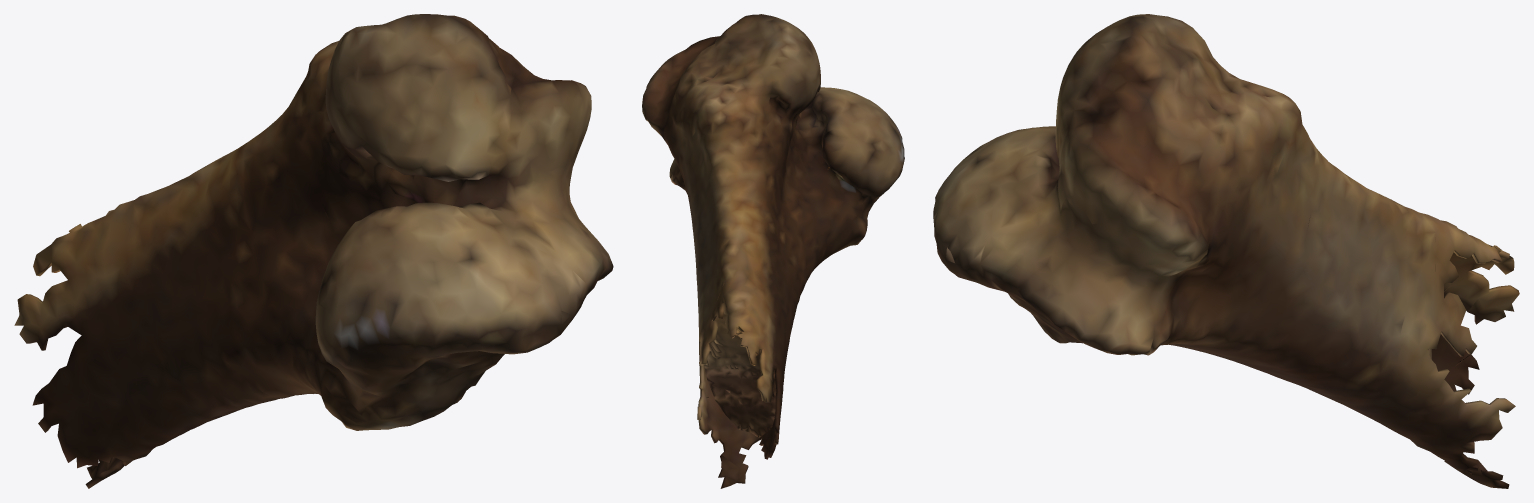
Rendered from 6half mastadon bone.fbx.
3 renders of one model, left to right at view 1: azimuth 30°, elevation 25°; view 2: azimuth 150°, elevation 25°; view 3: azimuth 270°, elevation 25°, orthographic. The views are drawn at different scales.
Parts seen in each view (by area): view 1: outside_bone; view 2: outside_bone, inside_bone; view 3: outside_bone.
Boxes of the visible parts, box(x1,y1,x2,y2) form: outside_bone: box(14, 14, 613, 488); outside_bone: box(642, 14, 904, 488); inside_bone: box(704, 283, 776, 437); outside_bone: box(933, 14, 1519, 488).
Size of the model in its own units: 11213 by 16258 by 16431.
